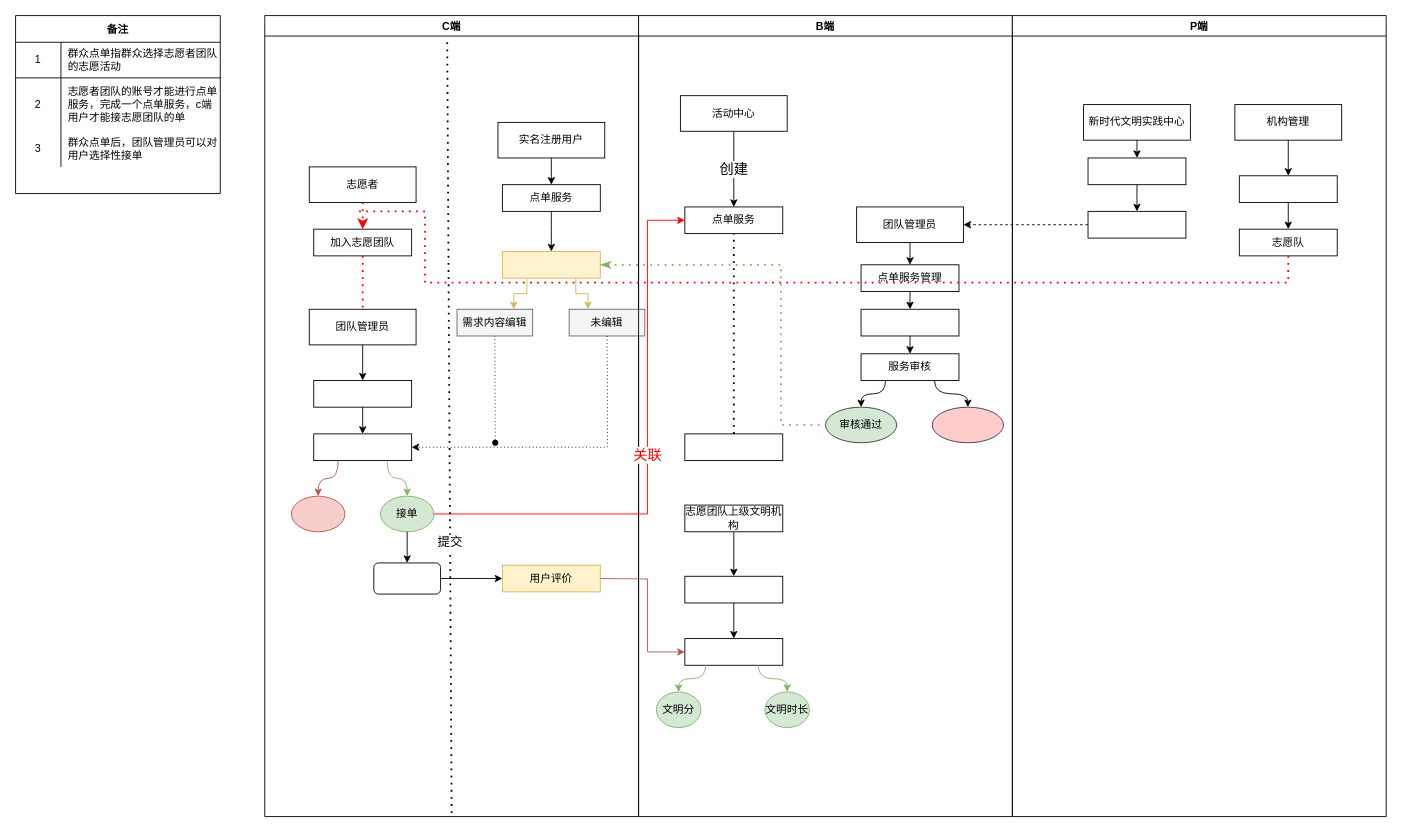
Image size: 1402x834. Some labels were removed from this diagram. Here are the shapes that lost their labels. From the top down, the box of each, then its label:
(1087, 157, 1186, 185): 服务类型管理
(1238, 175, 1337, 202): 申请志愿者团队
(1087, 210, 1186, 238): 创建服务类型
(502, 251, 600, 278): 我要点单
(860, 308, 959, 336): 发布服务
(313, 380, 412, 407): 我的
(931, 406, 1003, 443): 拒绝
(313, 433, 412, 461): 我的服务
(684, 433, 783, 461): 发布点单服务
(291, 495, 345, 532): 不接单
(373, 562, 441, 594): 完成点单
(684, 575, 783, 603): 内容管理
(684, 638, 783, 665): 点单服务审核
